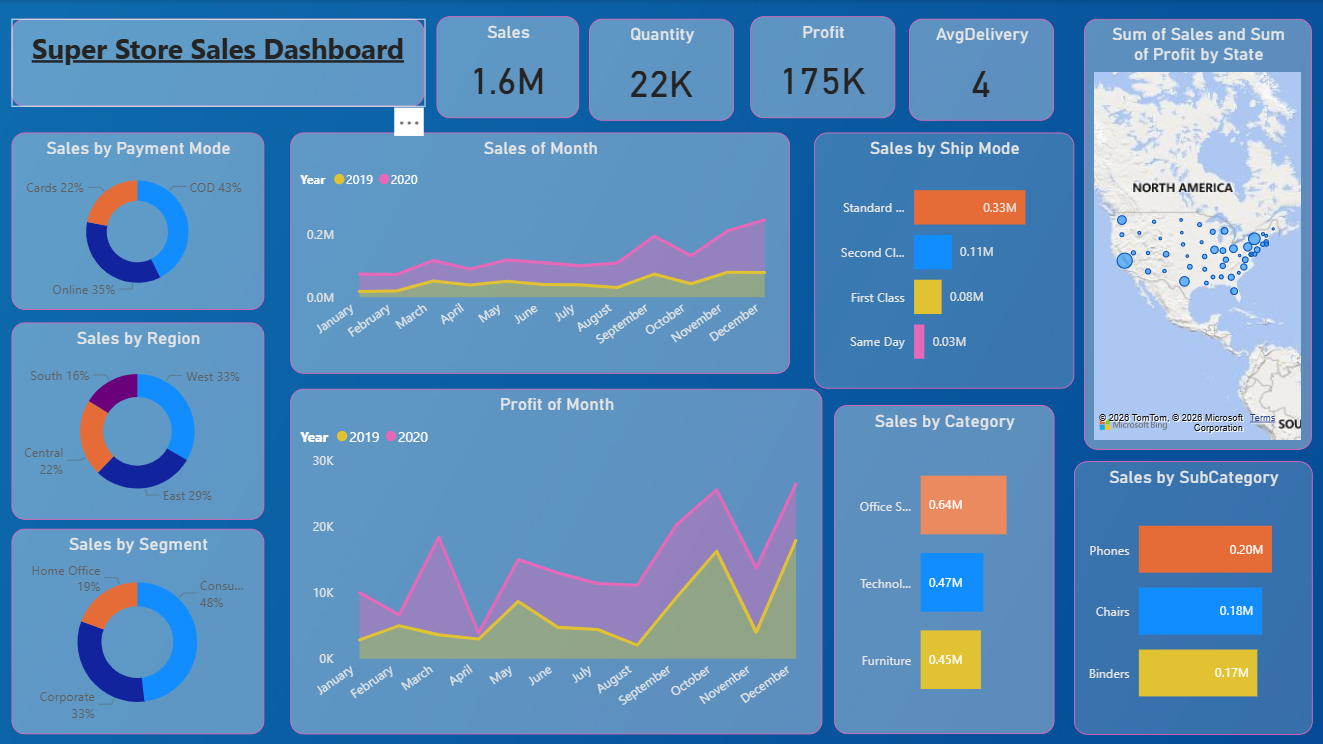

The dashboard page shown, as its layout file describes it:
{"tool":"powerbi","page":{"name":"Page 1","canvas":[1280,720],"ordinal":0},"visuals":[{"type":"clusteredBarChart","title":"Sales by Category","fields":{"Y":["Sum(SuperStore_Sales_Dataset.Sales)"],"Category":["SuperStore_Sales_Dataset.Category"]},"box":[806.2,391.2,212.5,317.5],"z":0},{"type":"clusteredBarChart","title":"Sales by SubCategory","fields":{"Y":["Sum(SuperStore_Sales_Dataset.Sales)"],"Category":["SuperStore_Sales_Dataset.Sub-Category"]},"box":[1037.5,445,230,263.8],"z":1000},{"type":"clusteredBarChart","title":"Sales by Ship Mode","fields":{"Y":["Sum(SuperStore_Sales_Dataset.Sales)"],"Category":["SuperStore_Sales_Dataset.Ship Mode"]},"box":[786.2,127.5,251.2,247.5],"z":2000},{"type":"stackedAreaChart","title":" Sales of Month","fields":{"Y":["Sum(SuperStore_Sales_Dataset.Sales)"],"Series":["SuperStore_Sales_Dataset.Order Date.Variation.Date Hierarchy.Year"],"Category":["SuperStore_Sales_Dataset.Order Date.Variation.Date Hierarchy.Month","SuperStore_Sales_Dataset.Order Date.Variation.Date Hierarchy.Day"]},"box":[281.2,127.5,482.5,232.5],"z":3000},{"type":"stackedAreaChart","title":" Profit of Month","fields":{"Series":["SuperStore_Sales_Dataset.Order Date.Variation.Date Hierarchy.Year"],"Category":["SuperStore_Sales_Dataset.Order Date.Variation.Date Hierarchy.Month","SuperStore_Sales_Dataset.Order Date.Variation.Date Hierarchy.Day"],"Y":["Sum(SuperStore_Sales_Dataset.Profit)"]},"box":[281.2,375,513.8,333.8],"z":4000},{"type":"map","fields":{"Category":["SuperStore_Sales_Dataset.State"],"Size":["Sum(SuperStore_Sales_Dataset.Sales)"]},"box":[1047.5,17.5,220,416.2],"z":5000},{"type":"donutChart","title":"Sales by Segment","fields":{"Category":["SuperStore_Sales_Dataset.Segment"],"Y":["Sum(SuperStore_Sales_Dataset.Sales)"]},"box":[12.5,510,243.8,198.8],"z":6000},{"type":"donutChart","title":"Sales by Payment Mode","fields":{"Y":["Sum(SuperStore_Sales_Dataset.Sales)"],"Category":["SuperStore_Sales_Dataset.Payment Mode"]},"box":[12.5,127.5,243.8,171.2],"z":7000},{"type":"textbox","box":[12.5,17.5,398.8,85],"z":8000},{"type":"card","title":"Sales","fields":{"Values":["Sum(SuperStore_Sales_Dataset.Sales)"]},"box":[422.5,16.2,137.5,98.8],"z":9000},{"type":"card","title":"Quantity","fields":{"Values":["Sum(SuperStore_Sales_Dataset.Quantity)"]},"box":[570,17.5,140,98.8],"z":10000},{"type":"card","title":"Profit","fields":{"Values":["Sum(SuperStore_Sales_Dataset.Profit)"]},"box":[725,16.2,140,98.8],"z":11000},{"type":"card","title":"AvgDelivery","fields":{"Values":["Avg(SuperStore_Sales_Dataset.AvgDelivery)"]},"box":[878.8,17.5,140,98.8],"z":12000},{"type":"donutChart","title":"Sales by Region","fields":{"Y":["Sum(SuperStore_Sales_Dataset.Sales)"],"Category":["SuperStore_Sales_Dataset.Region"]},"box":[12.5,311.2,243.8,190],"z":13000}]}

Visuals, with their boxes in screenshot pixels (x1, y1, x2, y2), scaled from the page's 1280x720 canvas onto the 1323x744 screenshot:
"Sales by Category" clusteredBarChart: rect(833, 404, 1053, 732)
"Sales by SubCategory" clusteredBarChart: rect(1072, 460, 1310, 732)
"Sales by Ship Mode" clusteredBarChart: rect(813, 132, 1072, 388)
" Sales of Month" stackedAreaChart: rect(291, 132, 789, 372)
" Profit of Month" stackedAreaChart: rect(291, 388, 822, 732)
map - SuperStore_Sales_Dataset.State x Sum(SuperStore_Sales_Dataset.Sales): rect(1083, 18, 1310, 448)
"Sales by Segment" donutChart: rect(13, 527, 265, 732)
"Sales by Payment Mode" donutChart: rect(13, 132, 265, 309)
textbox: rect(13, 18, 425, 106)
"Sales" card: rect(437, 17, 579, 119)
"Quantity" card: rect(589, 18, 734, 120)
"Profit" card: rect(749, 17, 894, 119)
"AvgDelivery" card: rect(908, 18, 1053, 120)
"Sales by Region" donutChart: rect(13, 322, 265, 518)
